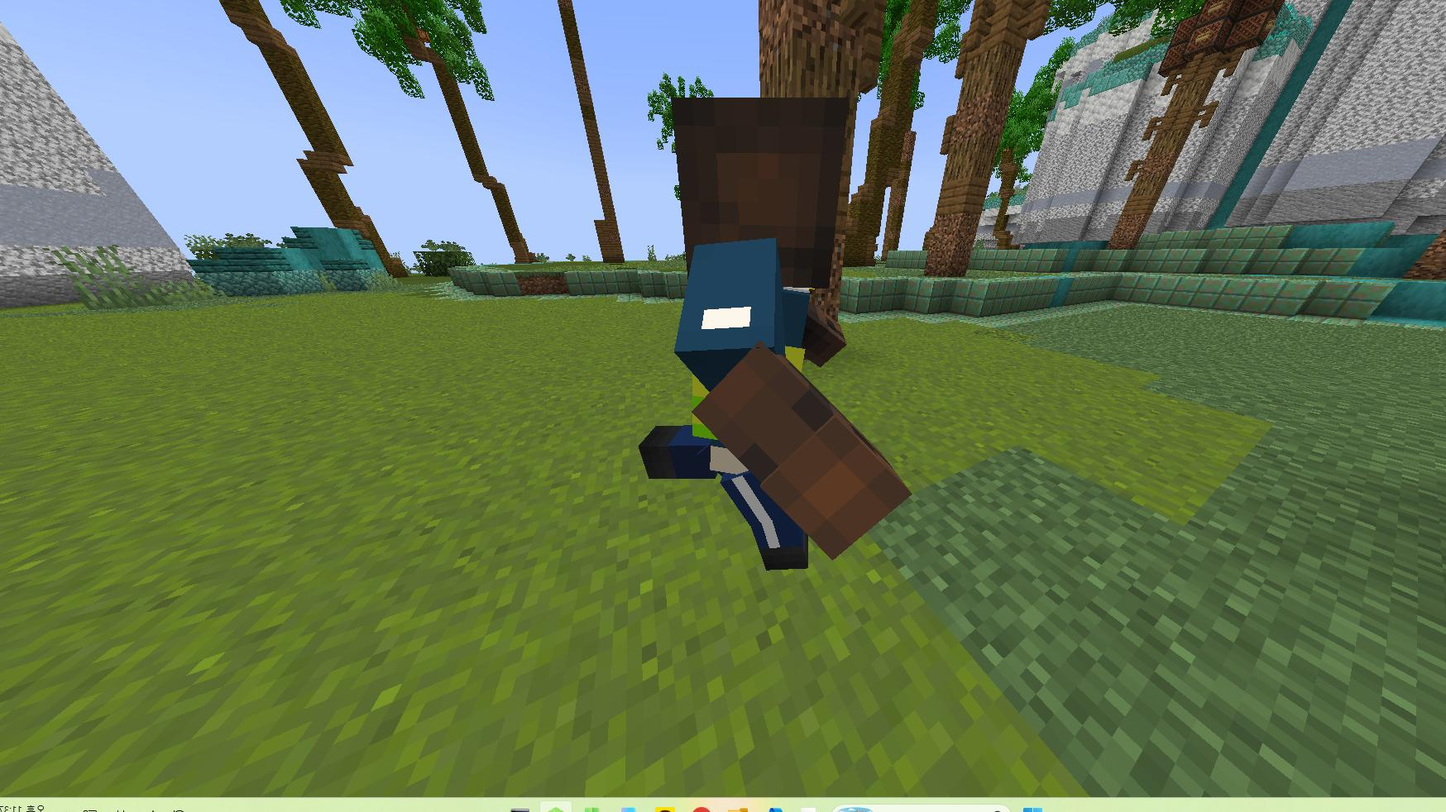Guardian: (639, 98, 910, 569)
